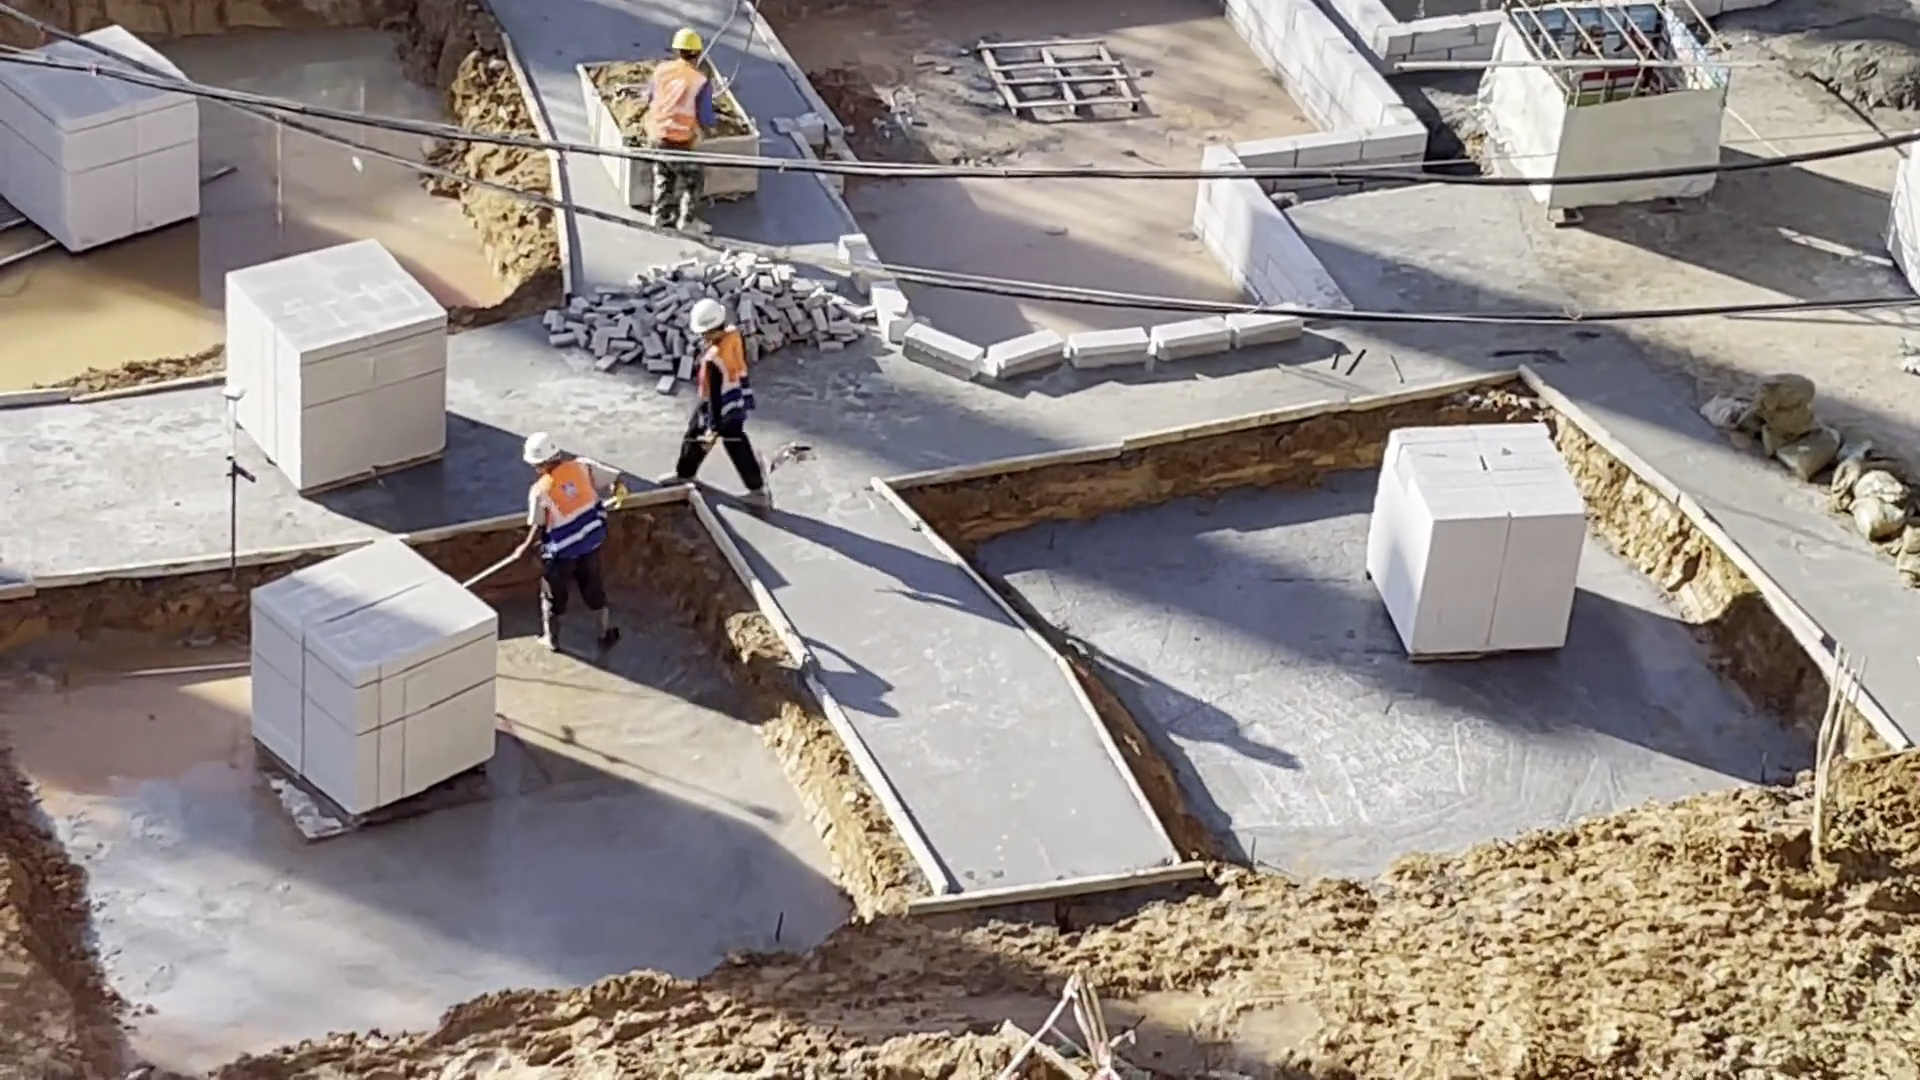helmet: (685, 298, 729, 335), (523, 433, 567, 465), (664, 25, 704, 50)
person: (512, 427, 632, 656), (670, 295, 781, 513), (620, 25, 731, 149)
vest: (529, 462, 608, 563), (694, 327, 755, 435), (645, 61, 704, 144)
